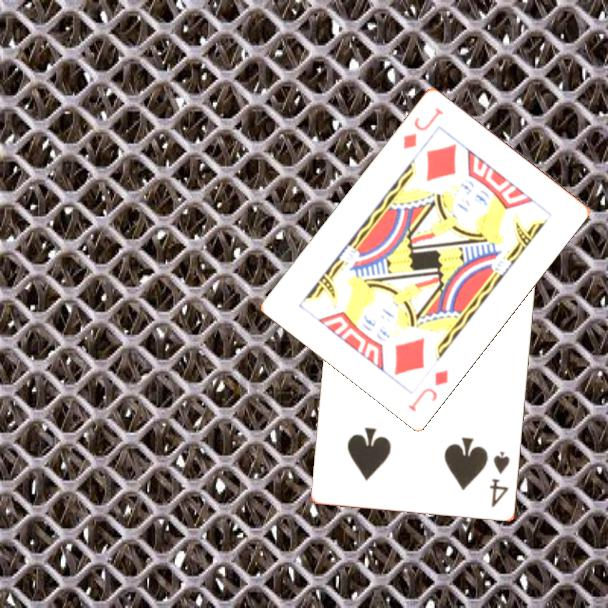d11: (399, 103, 446, 151), (405, 365, 451, 414)
s04: (487, 448, 513, 510)
